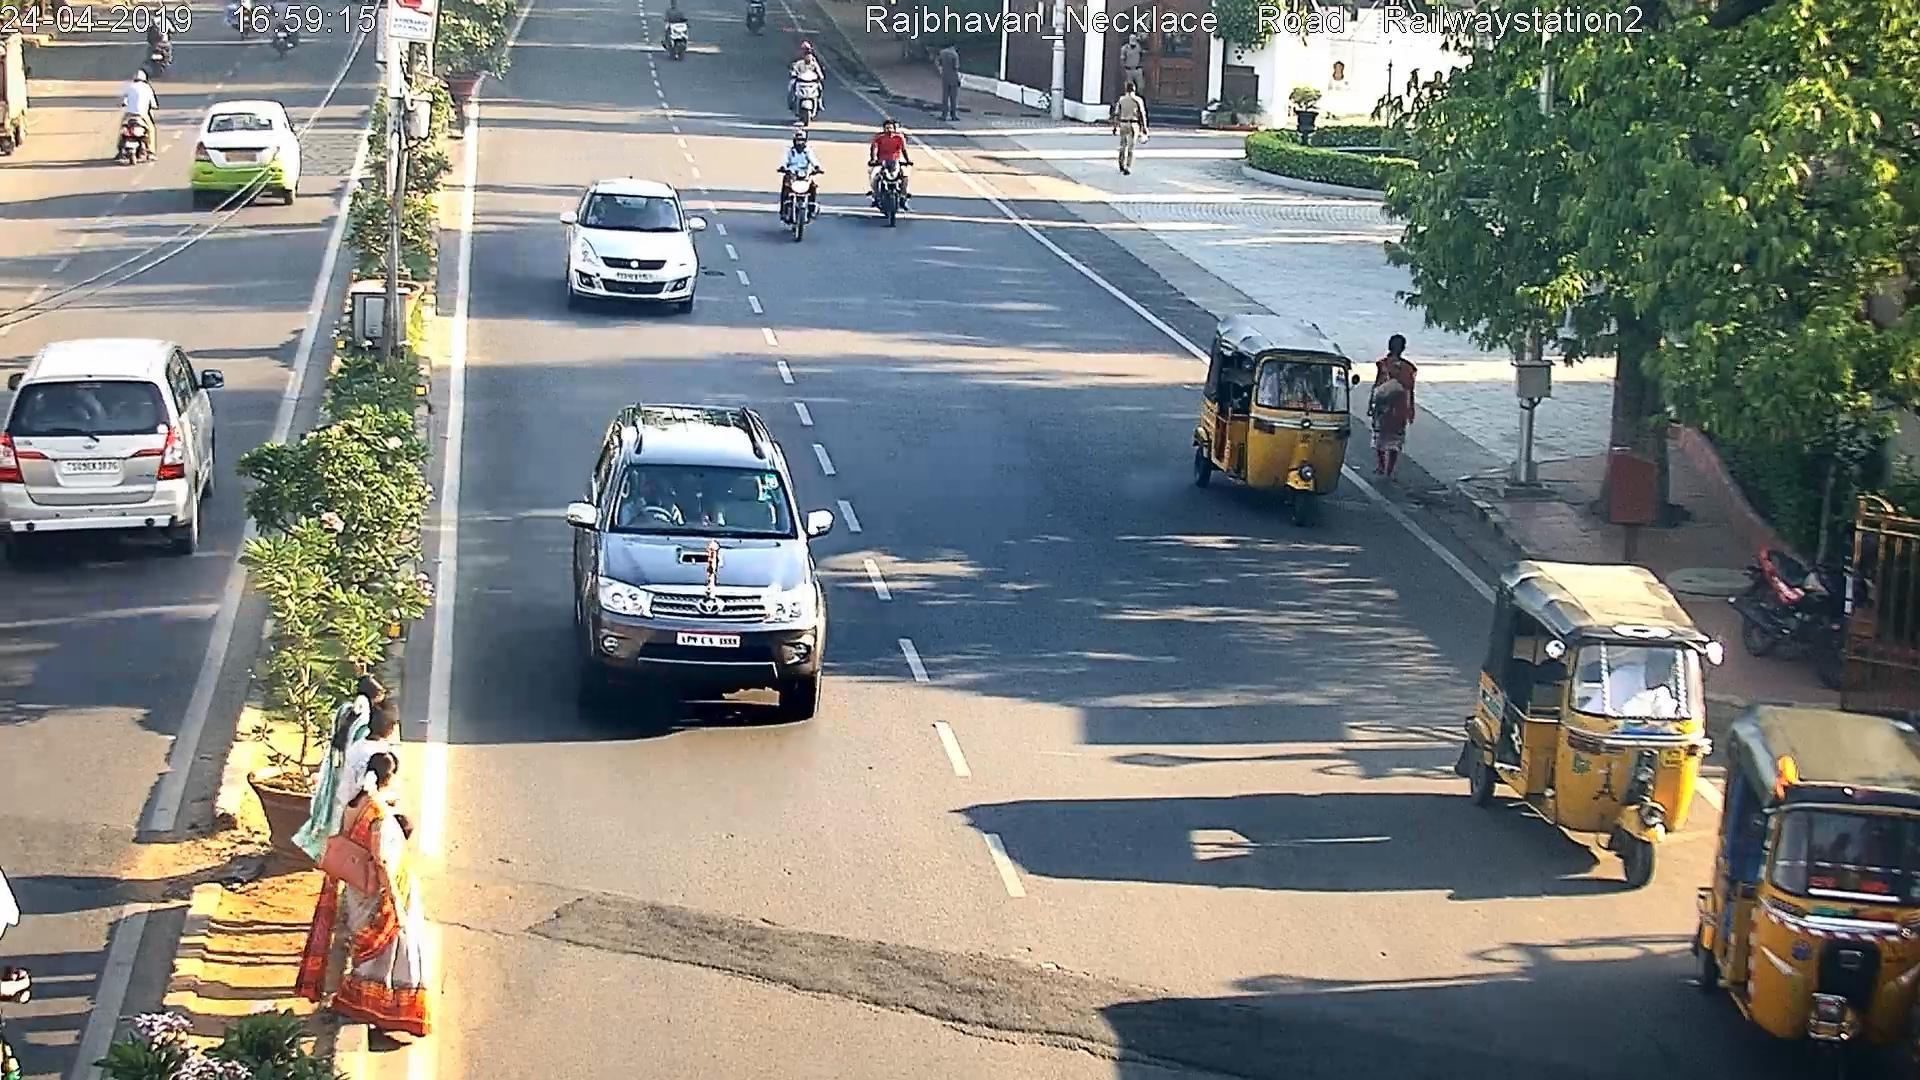2Wheeler: (869, 115, 922, 228), (773, 128, 822, 247), (111, 66, 160, 169), (785, 34, 825, 121), (659, 1, 696, 67)
